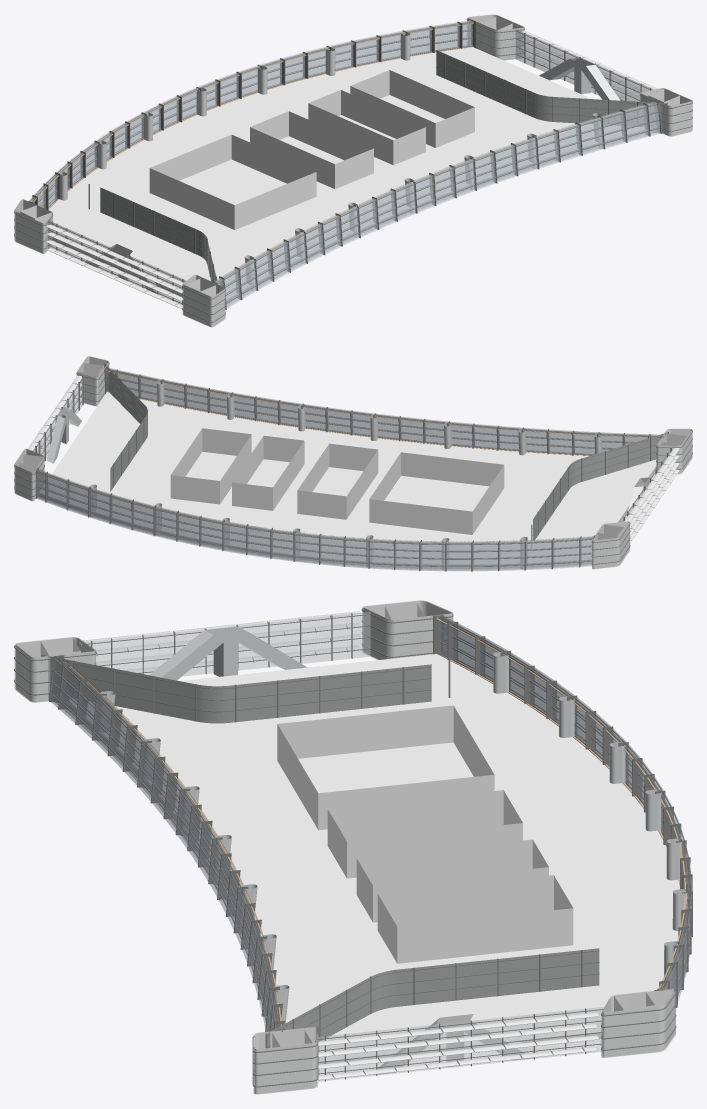
The picture shows the model from 3 angles, top to bottom: view 1: azimuth 30°, elevation 25°; view 2: azimuth 150°, elevation 25°; view 3: azimuth 270°, elevation 25°; orthographic projection. The views are drawn at different scales.
Visible parts, largest first — view 1: floor.042; view 2: floor.042; view 3: floor.042.
Part boxes in pixels (x1,y1,x2,y2): floor.042: (14, 14, 692, 327); floor.042: (14, 356, 692, 571); floor.042: (14, 600, 692, 1094).
Size of the model in its own units: 82.02 by 3.81 by 52.3.
Materials: 14 (1 with a texture image).
